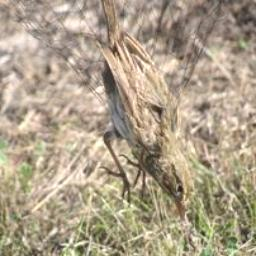Sparrow: (91, 0, 193, 224)
